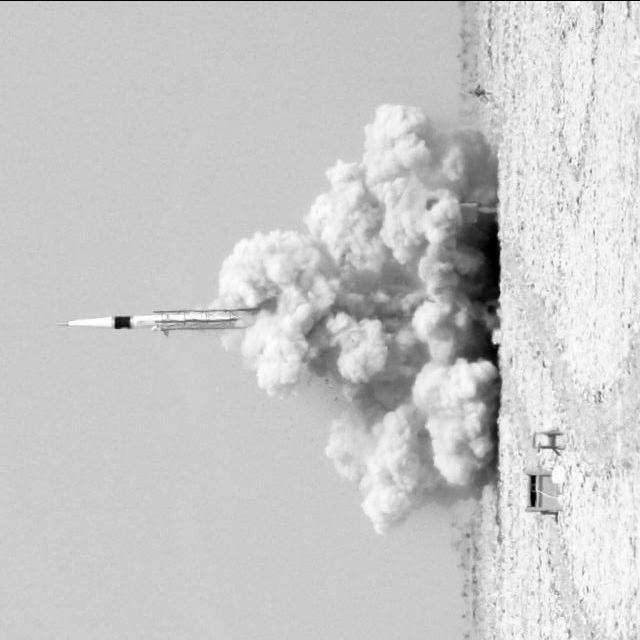missile: (52, 311, 230, 330)
